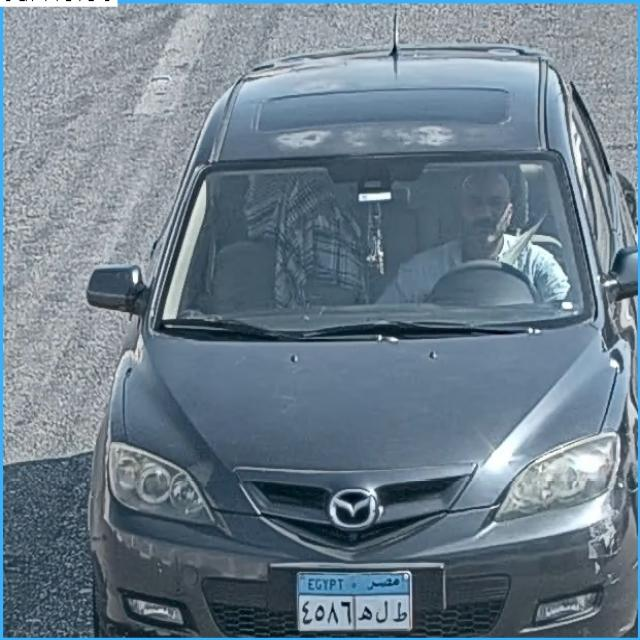windshield: (167, 166, 568, 329)
